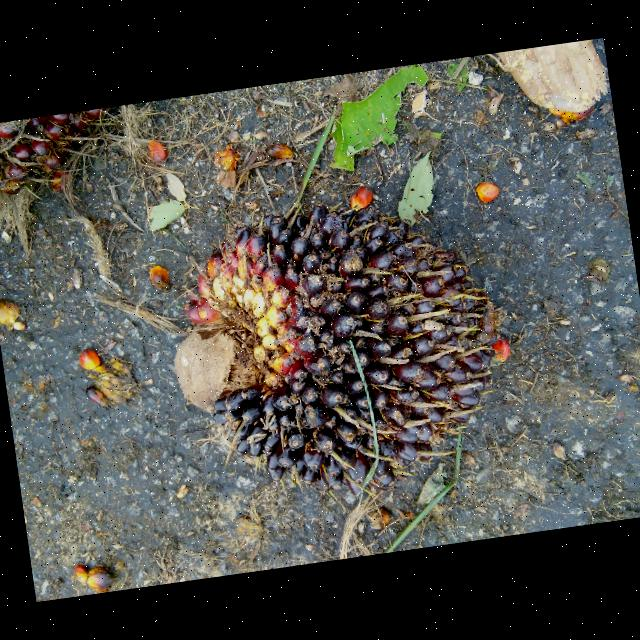Unripe: (184, 197, 507, 491)
